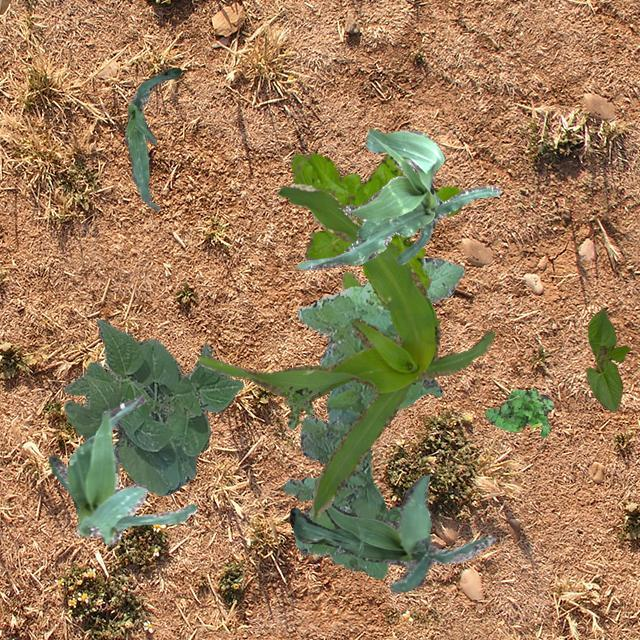crop: (196, 182, 494, 520), (61, 318, 242, 494), (294, 128, 500, 268), (290, 473, 494, 592), (47, 394, 196, 544), (124, 66, 180, 210), (586, 308, 630, 412)
weed: (282, 256, 464, 578), (290, 152, 460, 288), (483, 386, 552, 436), (282, 384, 320, 428), (340, 270, 360, 290)
